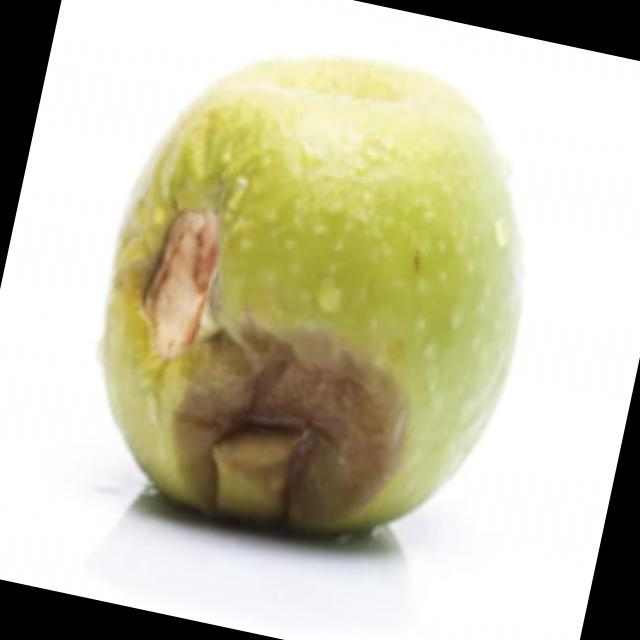rotten_apple: (61, 9, 570, 580)
